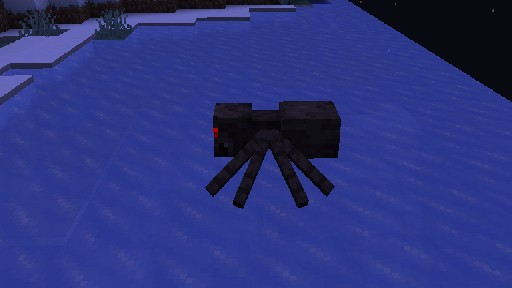spider: (204, 100, 341, 209)
